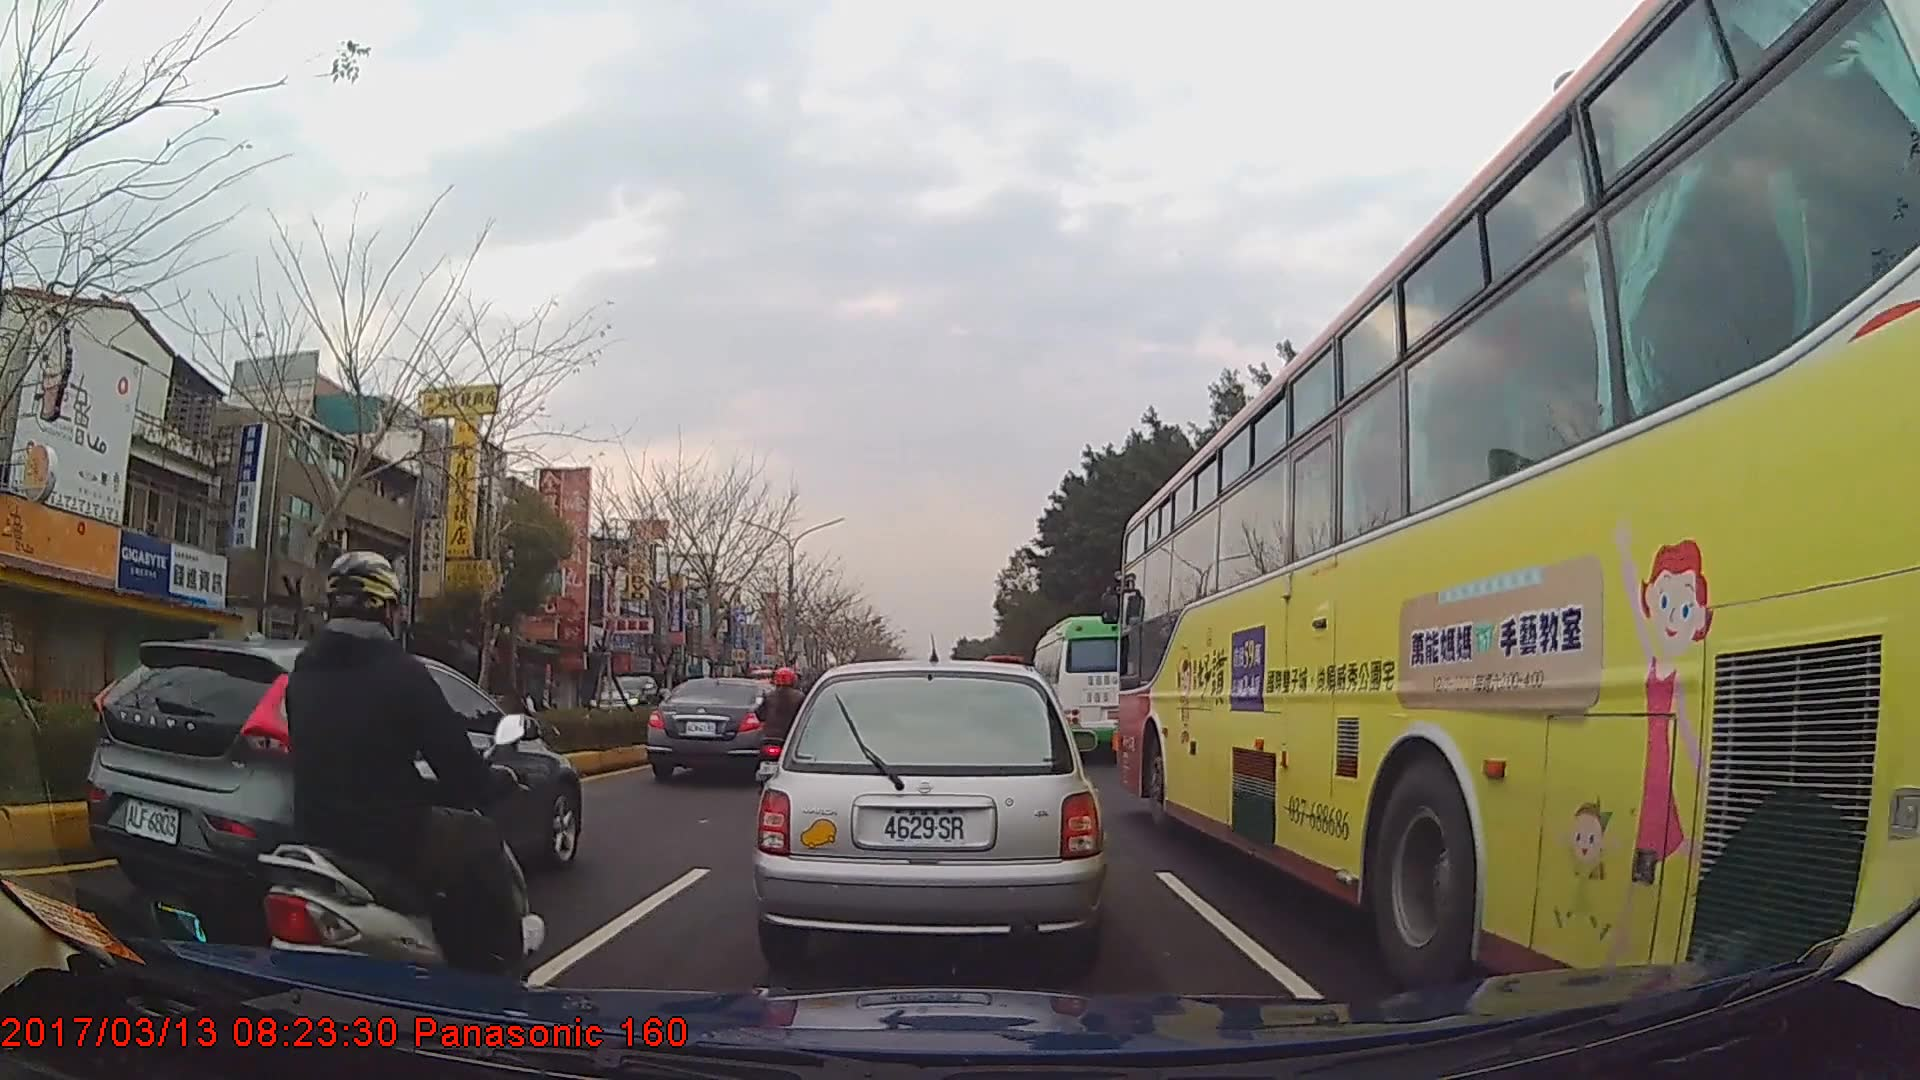rider: (276, 549, 541, 1002), (756, 666, 815, 795)
vehicle: (1114, 0, 1920, 1013), (78, 635, 580, 924), (752, 656, 1107, 967), (1030, 613, 1149, 760), (647, 673, 800, 784), (587, 673, 672, 729)
